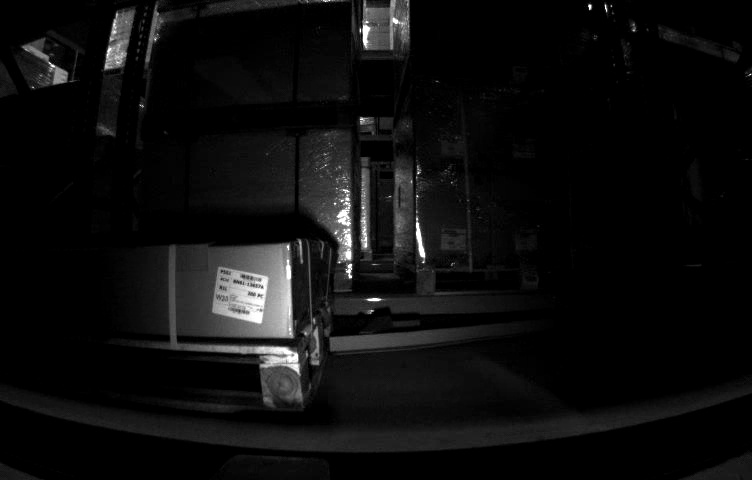True Barcode: (213, 265, 270, 327)
